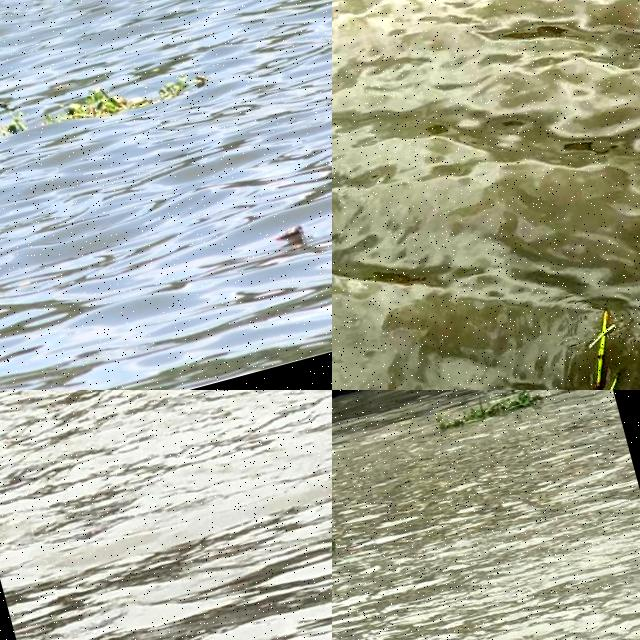water-hyacinth: (1, 54, 198, 145), (431, 391, 548, 436)
